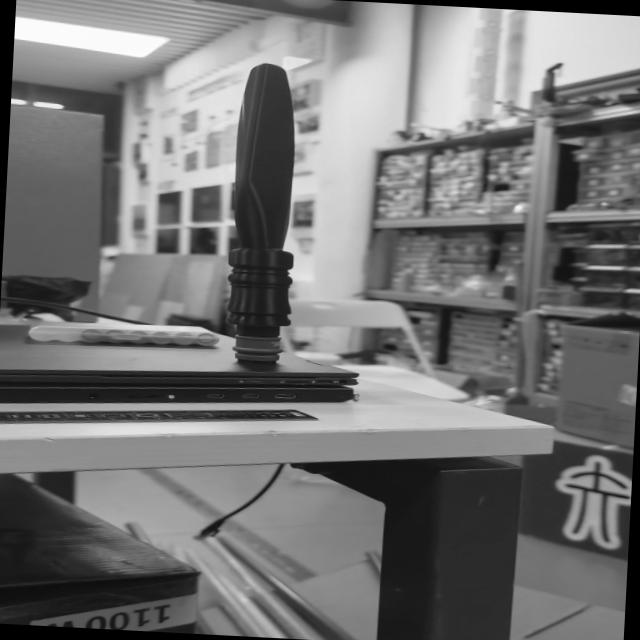base: (232, 334, 284, 362)
